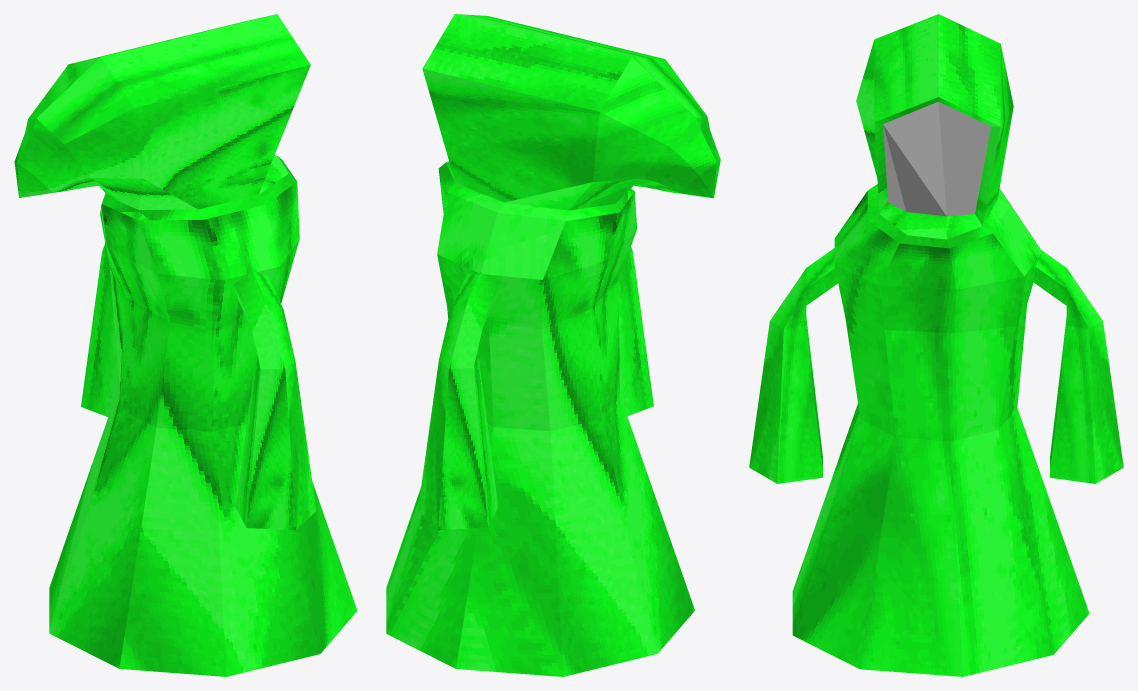
File: wizardGreen.glb
3 renders of one model, left to right at view 1: azimuth 30°, elevation 25°; view 2: azimuth 150°, elevation 25°; view 3: azimuth 270°, elevation 25°, orthographic. The views are drawn at different scales.
Parts seen in each view (by area): view 1: WizTorso, WizHood, WizArmR, WizArmL; view 2: WizTorso, WizHood, WizArmL, WizArmR; view 3: WizTorso, WizHood, WizArmL, WizArmR.
Boxes of the visible parts, x1,y1,x2,y2 form: WizTorso: (49,156,357,676); WizHood: (14,14,310,209); WizArmR: (234,263,316,530); WizArmL: (81,243,119,416); WizTorso: (386,162,694,676); WizHood: (422,14,720,210); WizArmL: (418,271,501,529); WizArmR: (618,247,653,416); WizTorso: (792,184,1089,676); WizHood: (856,14,1013,239); WizArmL: (1033,250,1123,483); WizArmR: (749,244,839,483).
Size of the model in its own units: 1.57 by 2.73 by 1.67.
Materials: 5 (4 with a texture image).
